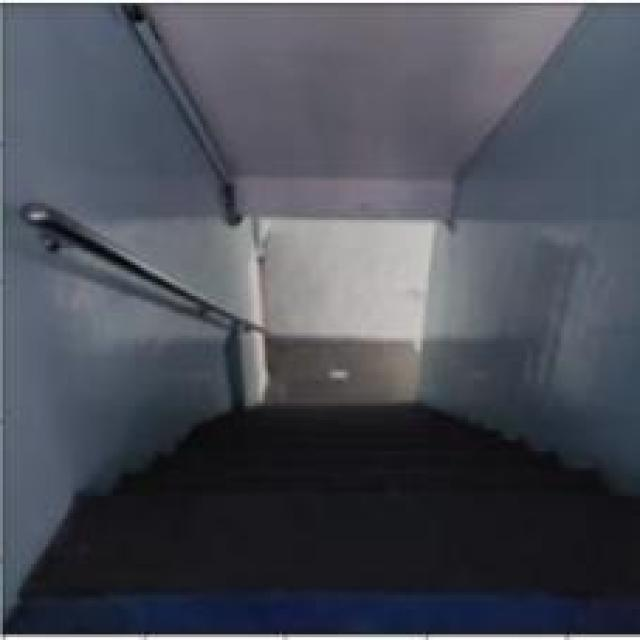downstair: (165, 376, 509, 517)
